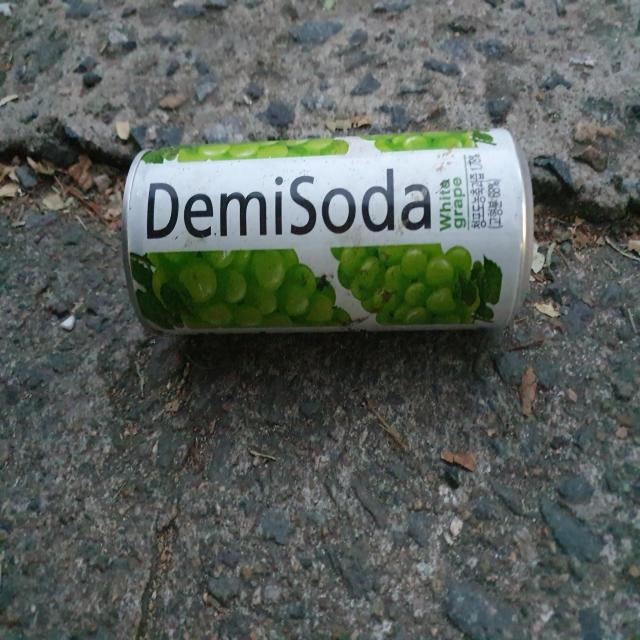can: (122, 128, 534, 333)
